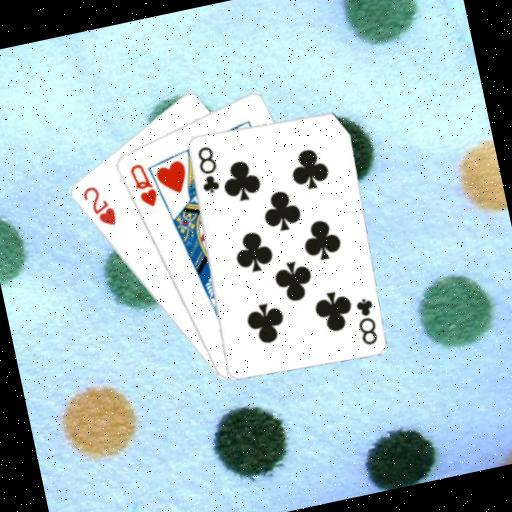2H: (77, 179, 119, 232)
8C: (348, 293, 382, 348), (190, 141, 223, 196)
QH: (124, 157, 160, 211)
